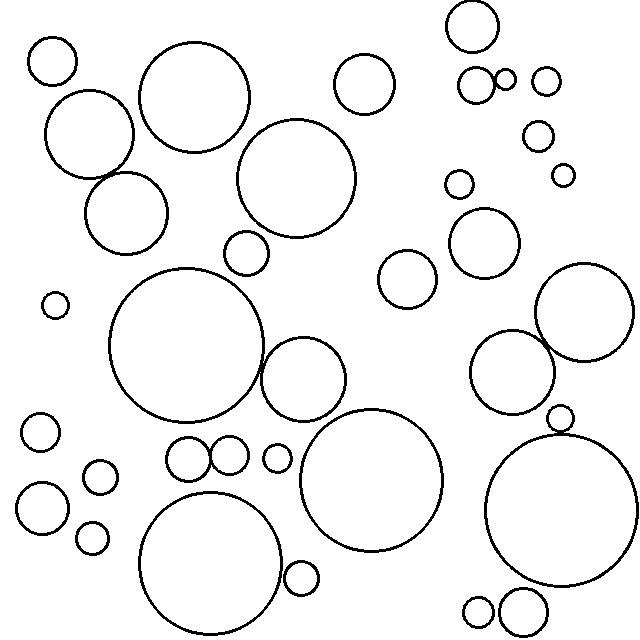circle: (107, 263, 266, 427), (482, 430, 640, 590), (296, 404, 448, 558), (135, 489, 284, 640), (233, 116, 361, 242), (135, 35, 254, 158), (533, 262, 636, 366), (41, 87, 137, 182), (466, 326, 560, 419), (260, 332, 349, 427), (80, 168, 172, 259), (446, 203, 525, 282), (331, 49, 399, 119), (374, 245, 439, 313), (11, 479, 74, 539), (23, 32, 80, 89), (443, 0, 502, 55), (497, 585, 552, 640), (221, 227, 271, 280), (162, 433, 212, 486), (17, 410, 64, 455), (209, 431, 253, 478), (80, 454, 123, 500), (452, 65, 496, 109), (281, 558, 323, 600), (518, 116, 558, 157), (72, 518, 113, 558), (527, 63, 565, 100), (260, 440, 297, 477), (460, 595, 497, 631), (442, 167, 478, 202), (38, 289, 74, 322), (545, 403, 577, 435), (550, 159, 578, 192), (494, 65, 519, 93)
